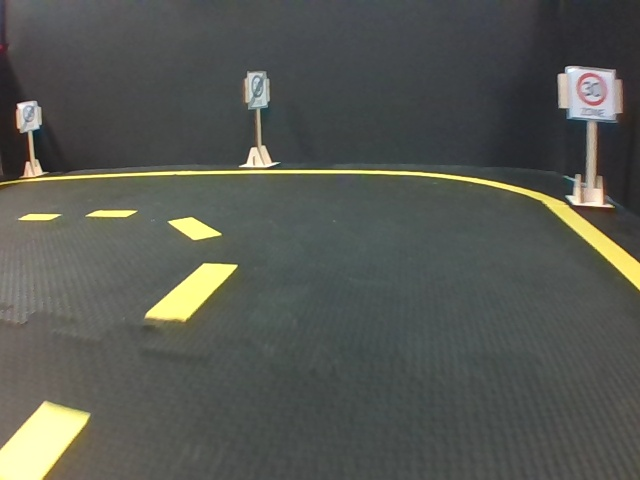30: (566, 66, 614, 121)
no30: (246, 71, 268, 108), (16, 102, 39, 128)
